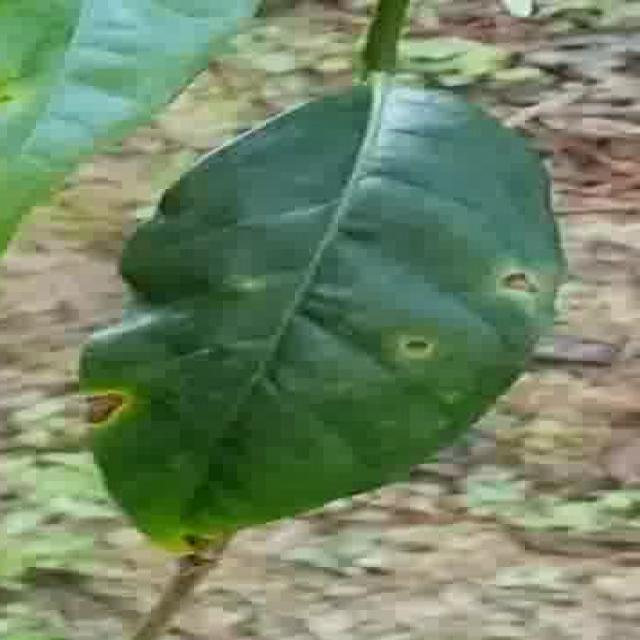leaves: (11, 37, 622, 567)
